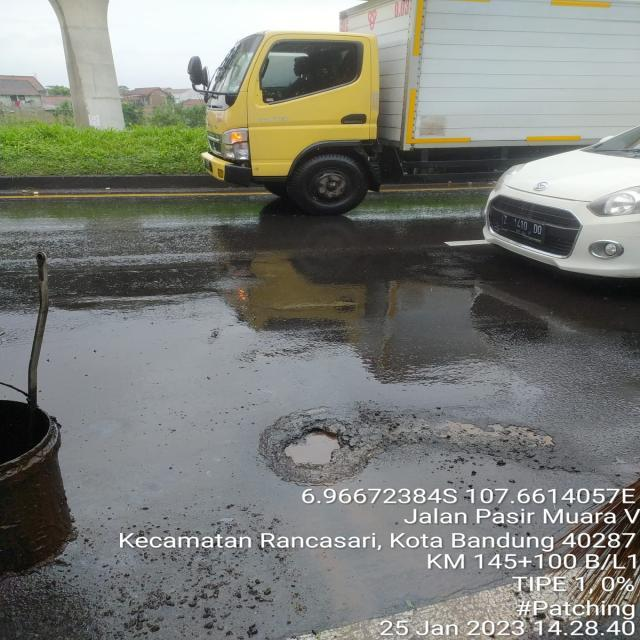Buraco: (254, 402, 560, 490)
